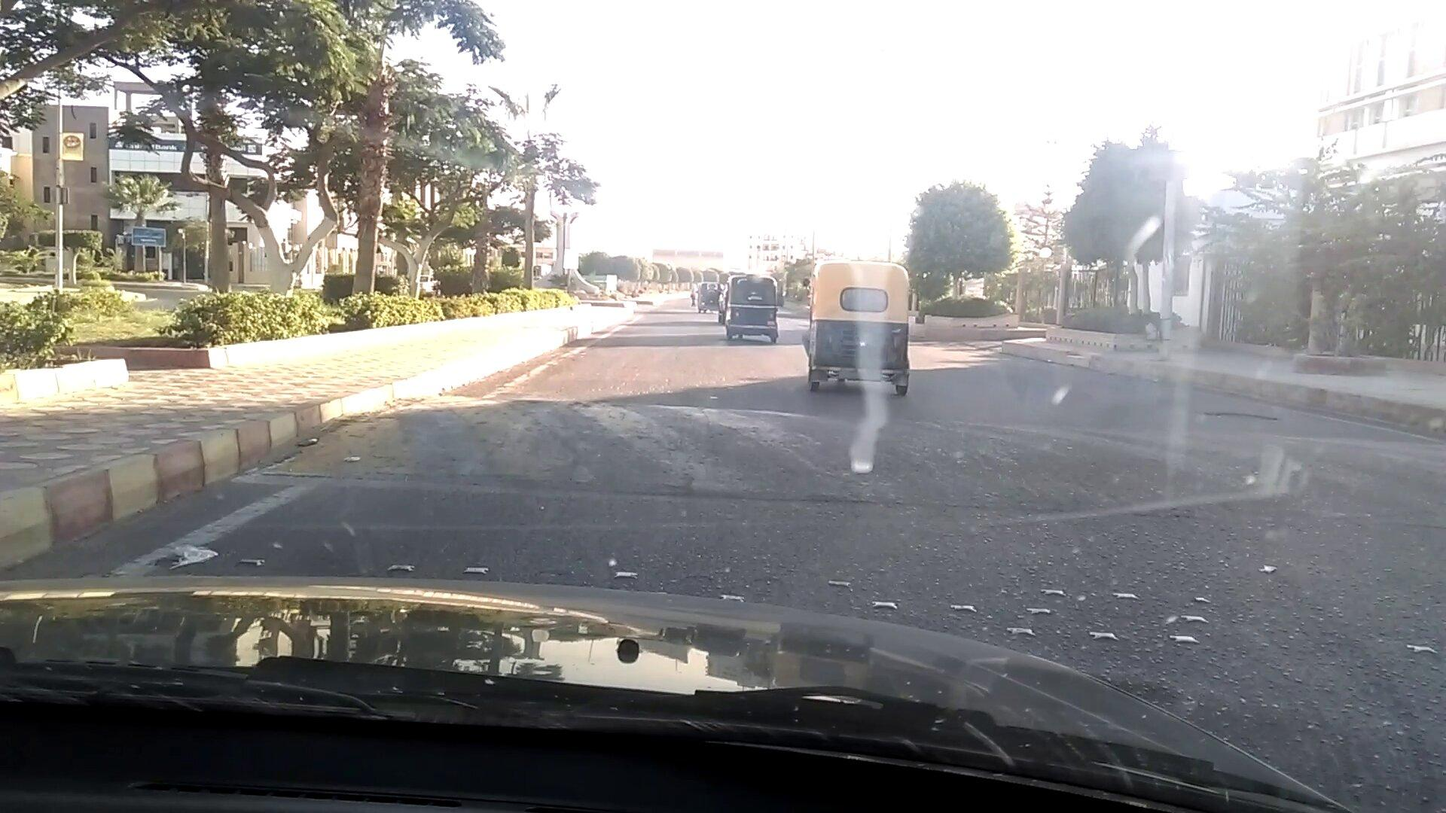Bump: (371, 393, 1397, 512)
